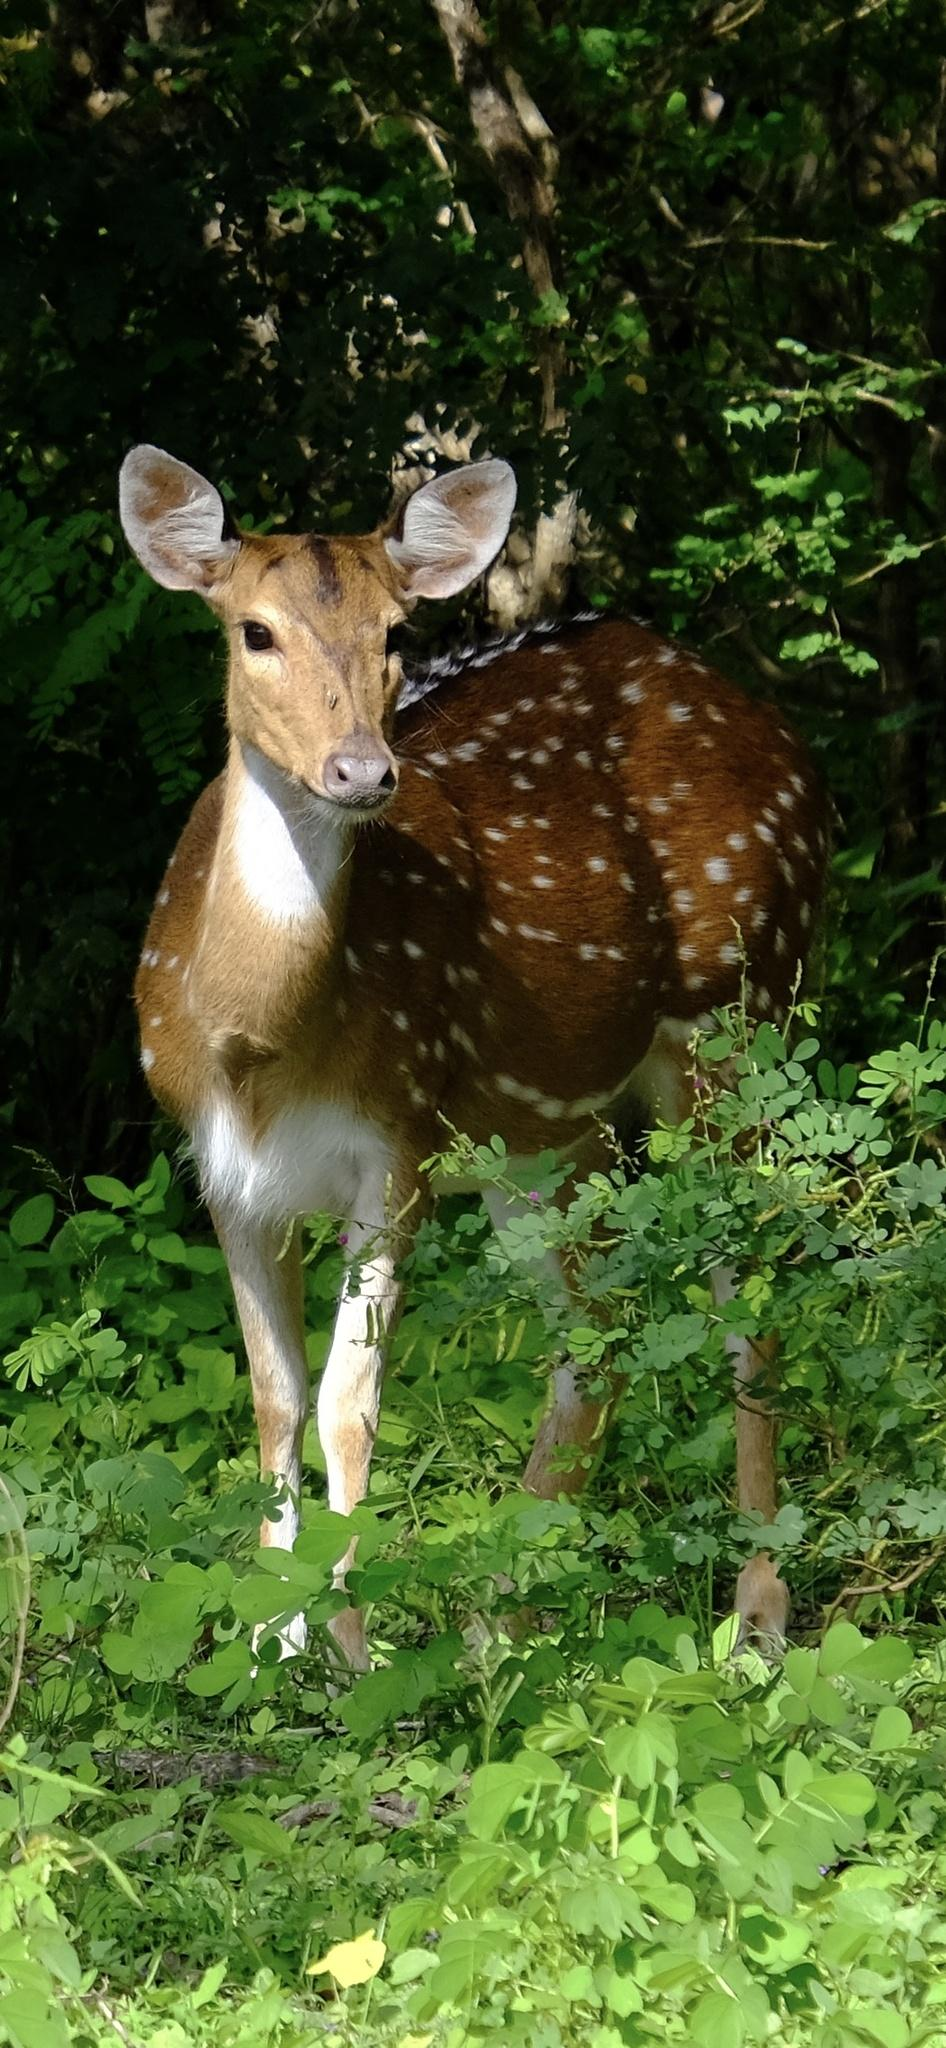Deer: (120, 445, 827, 1550), (728, 1337, 775, 1522)
